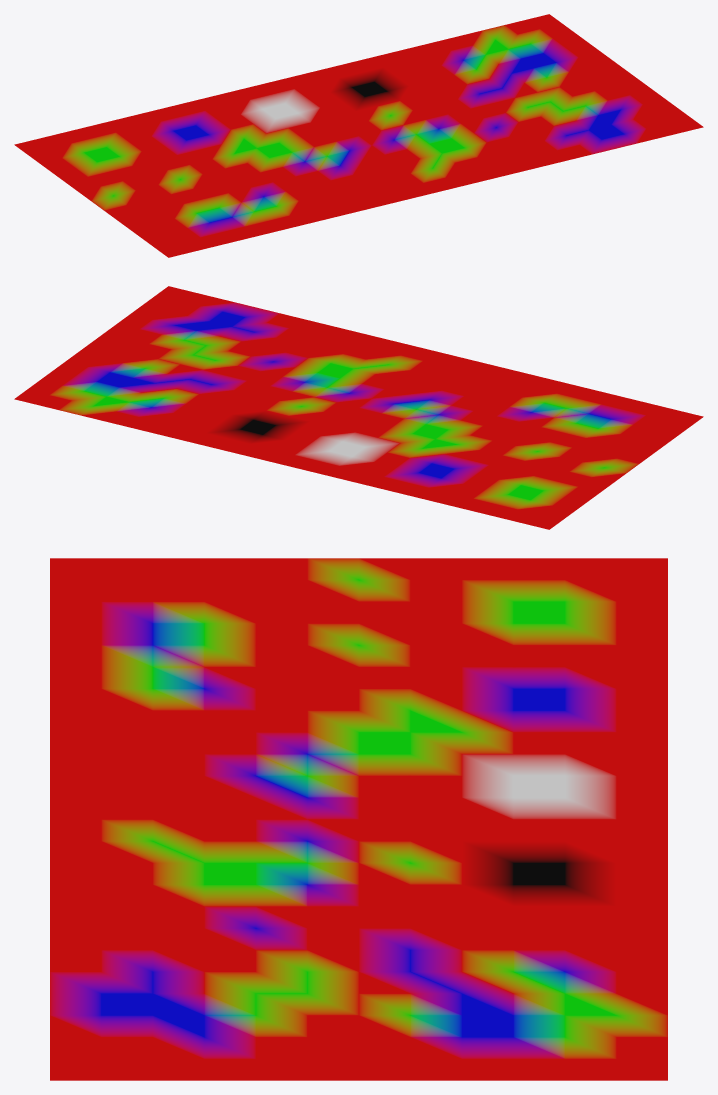
File: MS_ShowcaseGround.fbx
The picture shows the model from 3 angles, top to bottom: view 1: azimuth 30°, elevation 25°; view 2: azimuth 150°, elevation 25°; view 3: azimuth 270°, elevation 25°; orthographic projection. The views are drawn at different scales.
Parts seen in each view (by area): view 1: MS_ShowcaseGround; view 2: MS_ShowcaseGround; view 3: MS_ShowcaseGround.
Part boxes in pixels (x1,y1,x2,y2): MS_ShowcaseGround: (14,14,703,257); MS_ShowcaseGround: (14,286,703,529); MS_ShowcaseGround: (50,558,667,1080).
Size of the model in its own units: 9600 by 0 by 4800.
